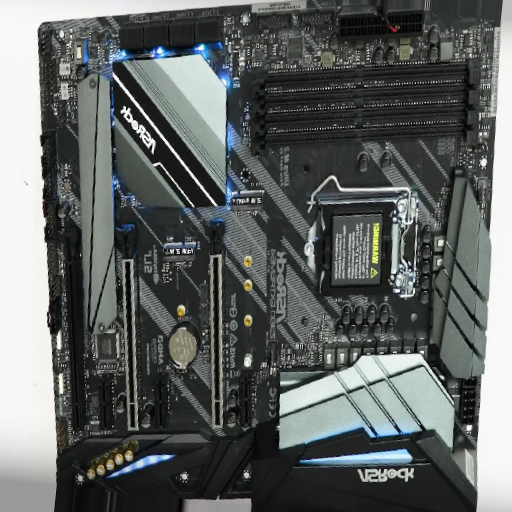CPU: (304, 196, 411, 292)
GPU: (112, 218, 152, 435), (200, 220, 232, 430)
MOTHERBOARD: (31, 2, 504, 512)
RAM: (246, 62, 483, 157)
SSD: (228, 187, 267, 215), (159, 237, 197, 264)
